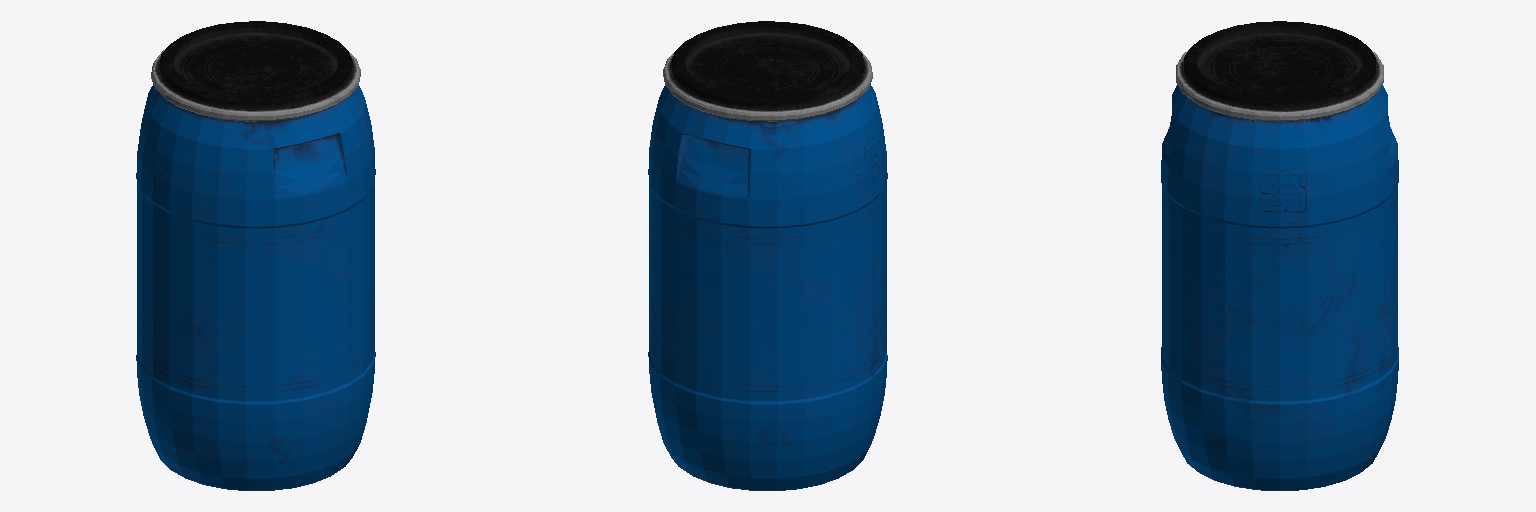
3 views of the same model, side by side, from view 1: azimuth 30°, elevation 25°; view 2: azimuth 150°, elevation 25°; view 3: azimuth 270°, elevation 25° (orthographic).
Parts seen in each view (by area): view 1: Barrel_02; view 2: Barrel_02; view 3: Barrel_02.
Boxes of the visible parts, <box> form: Barrel_02: <box>136,21,375,490</box>; Barrel_02: <box>648,21,887,490</box>; Barrel_02: <box>1161,21,1398,490</box>.
Bounding box in the file's own units: 0.4882 × 0.88 × 0.4846.
Materials: 1 (1 with a texture image).